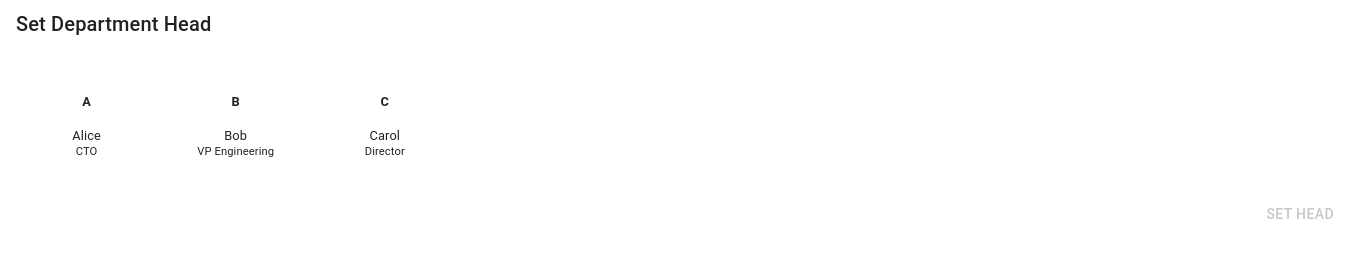
Test: UpdateDepartmentHead Component › shows generic error when updateDepartmentHead throws non-Error
The image size is (1366, 276).
Click the button "A Alice CTO".
click(87, 126)  # box [72,94,101,158]
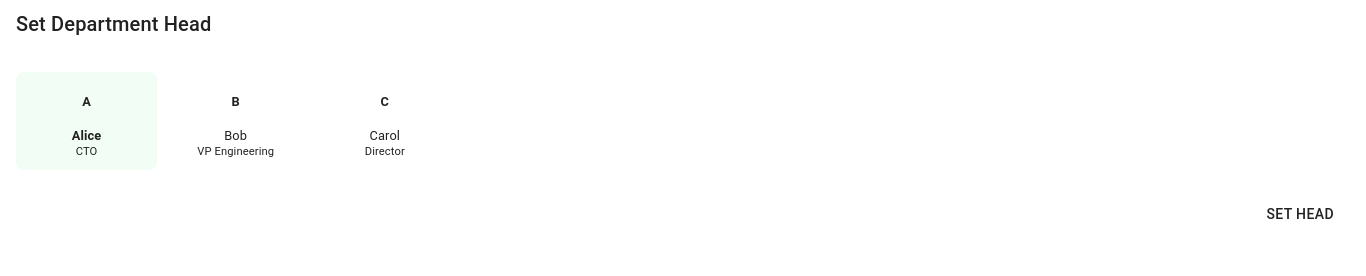
Click the button "Set Head".
click(1300, 214)  # box [1250,194,1350,235]
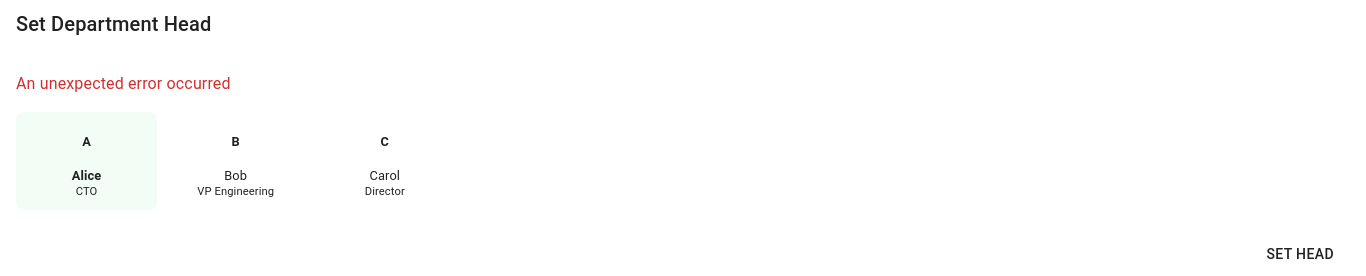
Now the text "An unexpected error occurred" is shown, box [16,74,231,93]
